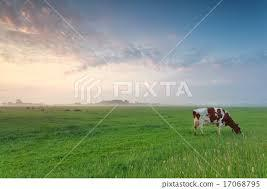cow: (193, 107, 242, 135)
